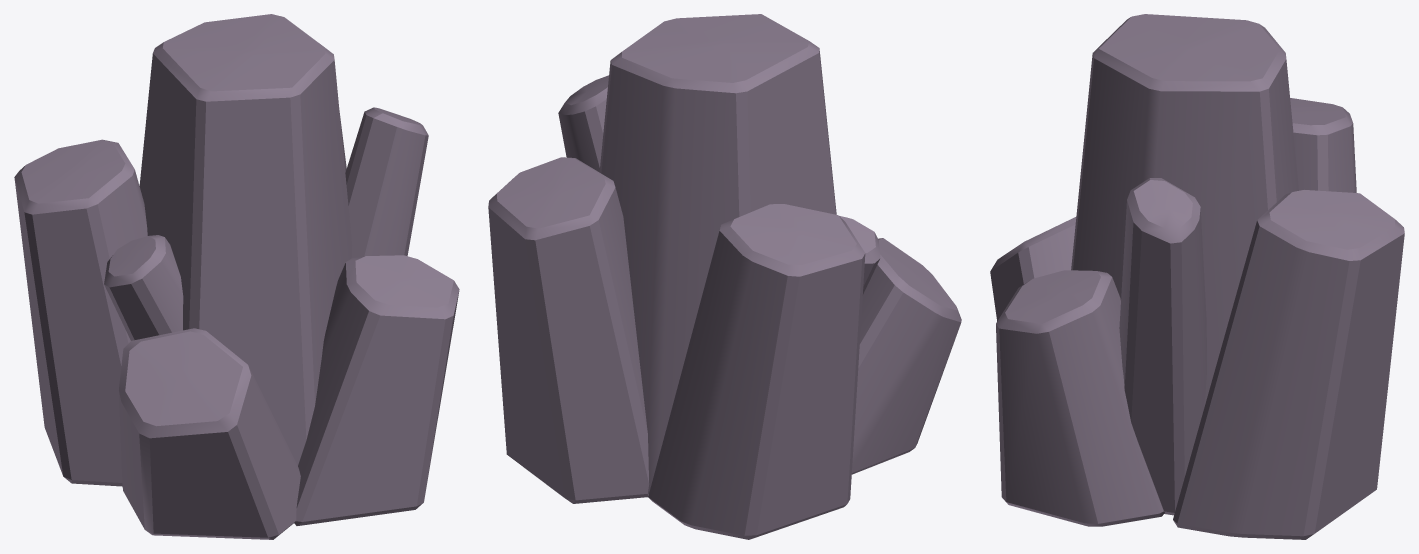
Rendered from crystal.glb.
3 views of the same model, side by side, from view 1: azimuth 30°, elevation 25°; view 2: azimuth 150°, elevation 25°; view 3: azimuth 270°, elevation 25° (orthographic). The views are drawn at different scales.
Parts seen in each view (by area): view 1: Crystal_Big; view 2: Crystal_Big; view 3: Crystal_Big.
Part boxes in pixels (x1,y1,x2,y2): Crystal_Big: [14, 14, 459, 539]; Crystal_Big: [488, 14, 961, 539]; Crystal_Big: [990, 14, 1404, 539].
Size of the model in its own units: 1.48 by 1.65 by 1.48.
1 material, 1 textured.
